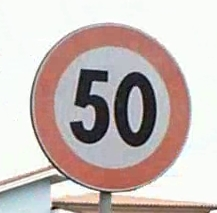limite 50: (29, 24, 190, 192)
